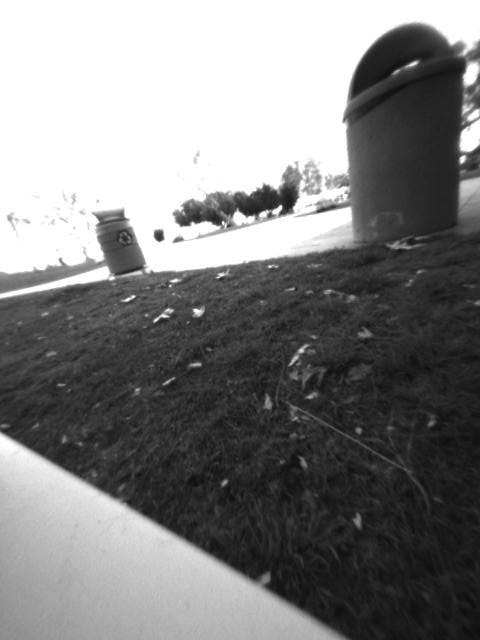trashcan: (341, 17, 467, 242)
